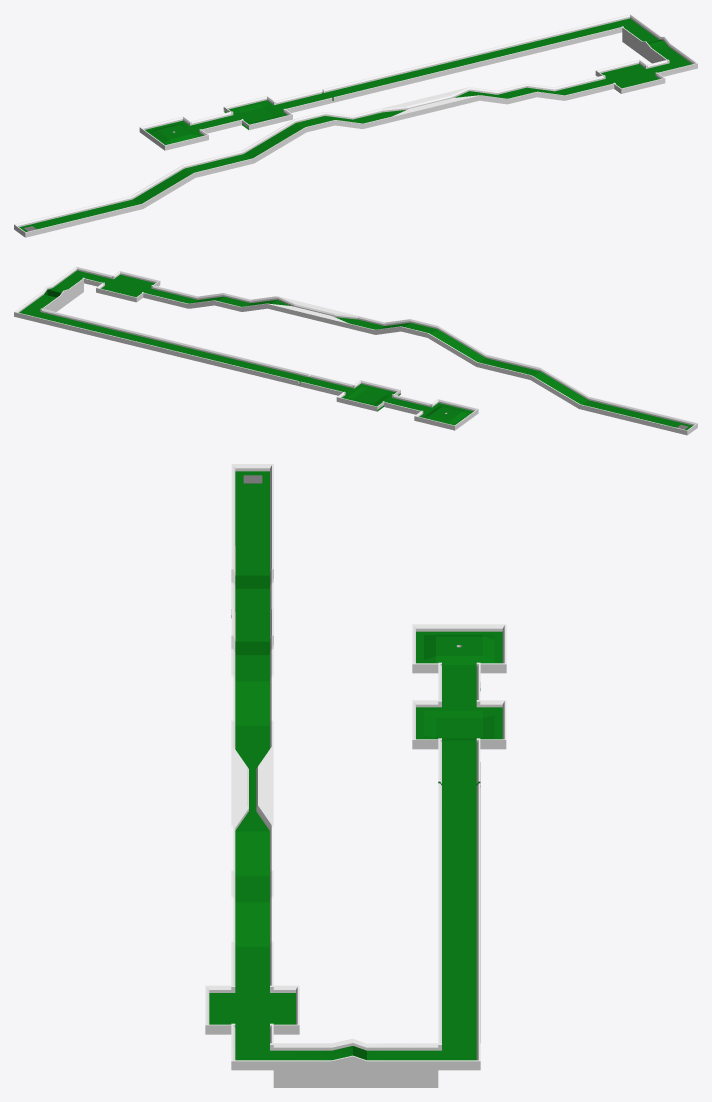
The model's file is Level14Model.obj.
3 renders of one model, top to bottom at view 1: azimuth 30°, elevation 25°; view 2: azimuth 150°, elevation 25°; view 3: azimuth 270°, elevation 25°, orthographic. The views are drawn at different scales.
Visible parts, largest first — view 1: Level14Model:pCube315; view 2: Level14Model:pCube315; view 3: Level14Model:pCube315.
Boxes of the visible parts, <box> form: Level14Model:pCube315: <box>14,14,697,237</box>; Level14Model:pCube315: <box>14,266,697,435</box>; Level14Model:pCube315: <box>205,464,506,1087</box>.
Size of the model in its own units: 76.23 by 4.98 by 15.98.
4 materials, 3 textured.
